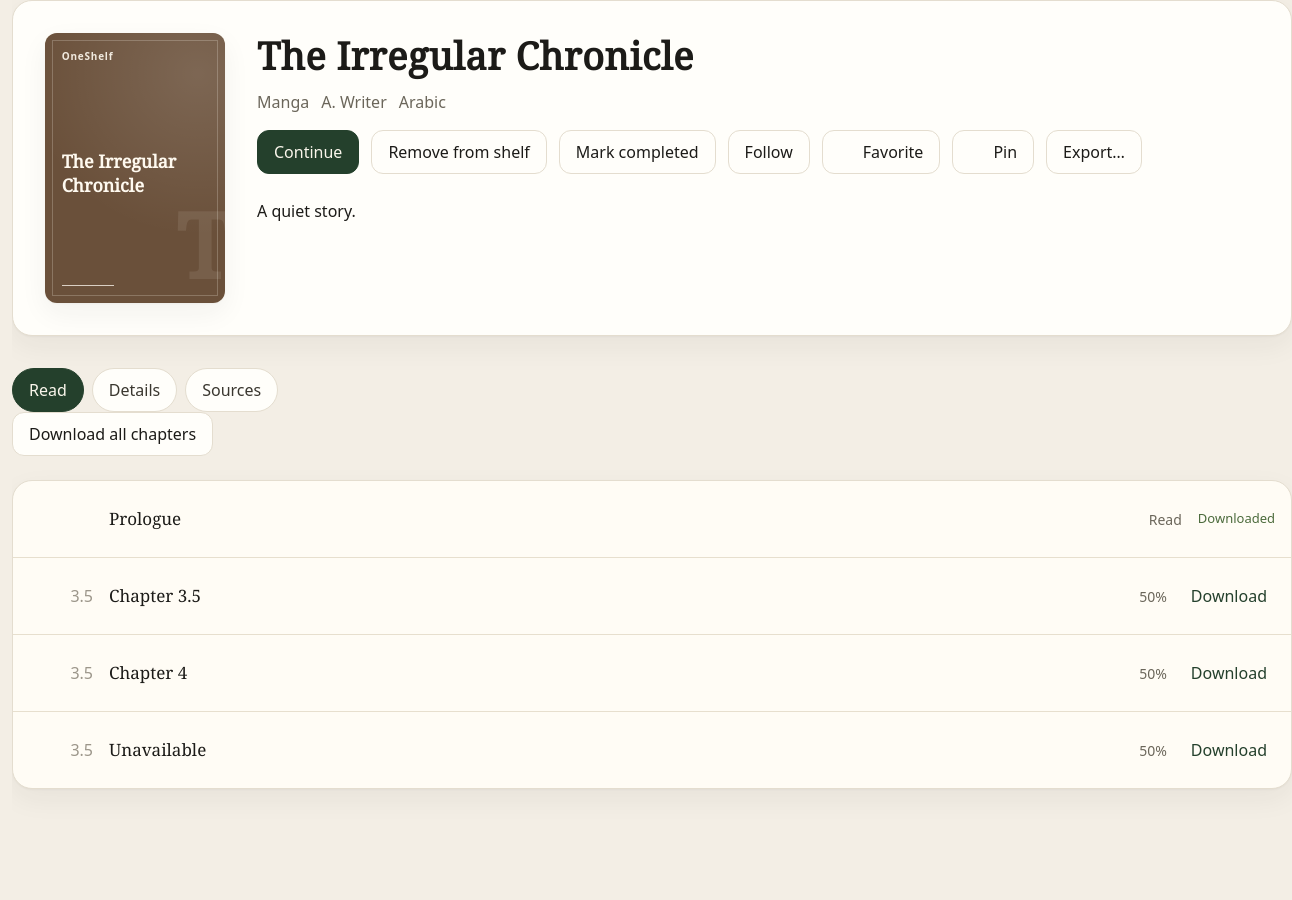
Work Details › queues all available chapters that are not already downloaded in one action
Click the button "Download all chapters".
click(113, 434)  # box x1=12 y1=412 x2=213 y2=456
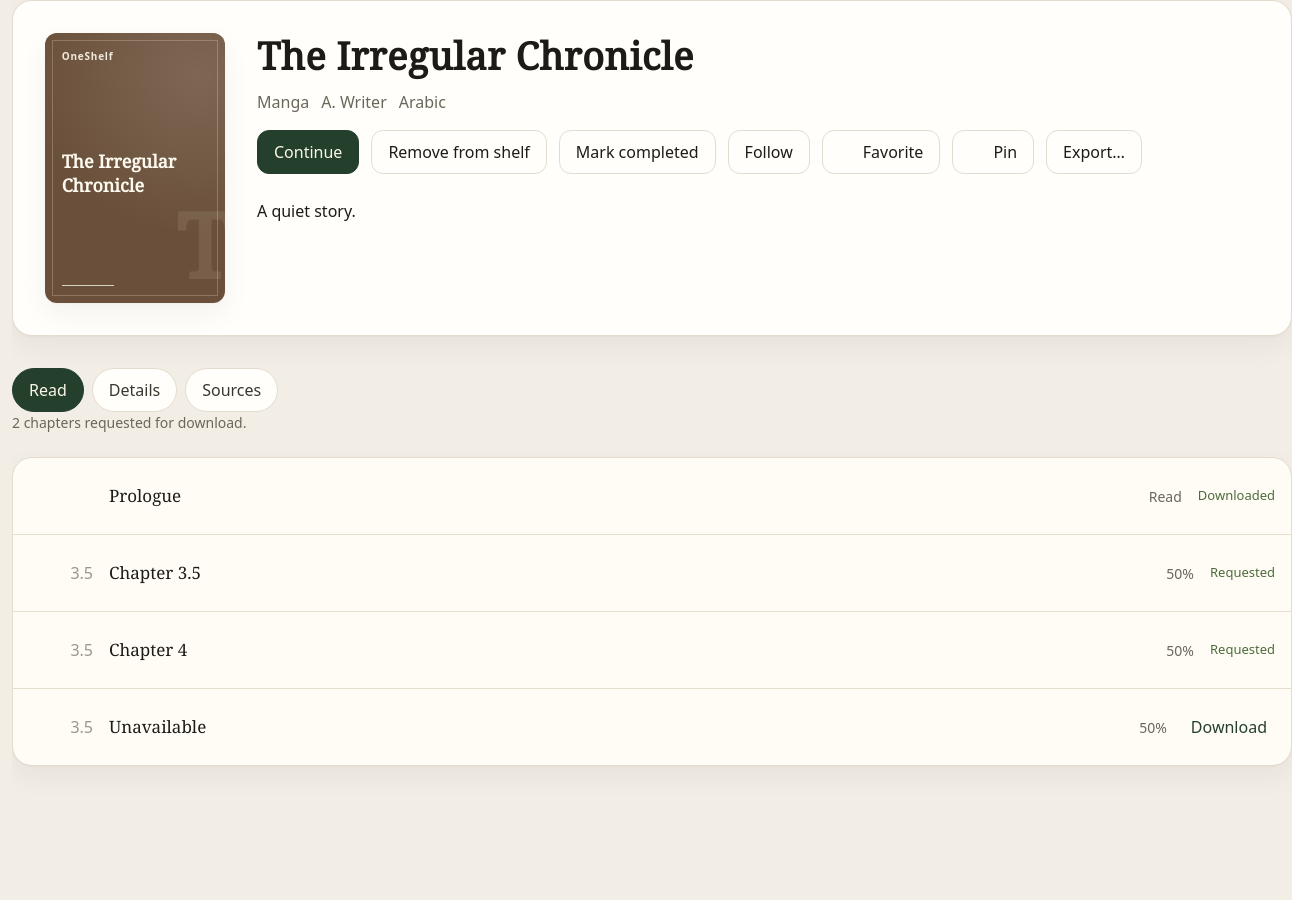
Now the message shows "2 chapters requested", box x1=12 y1=413 x2=246 y2=432
